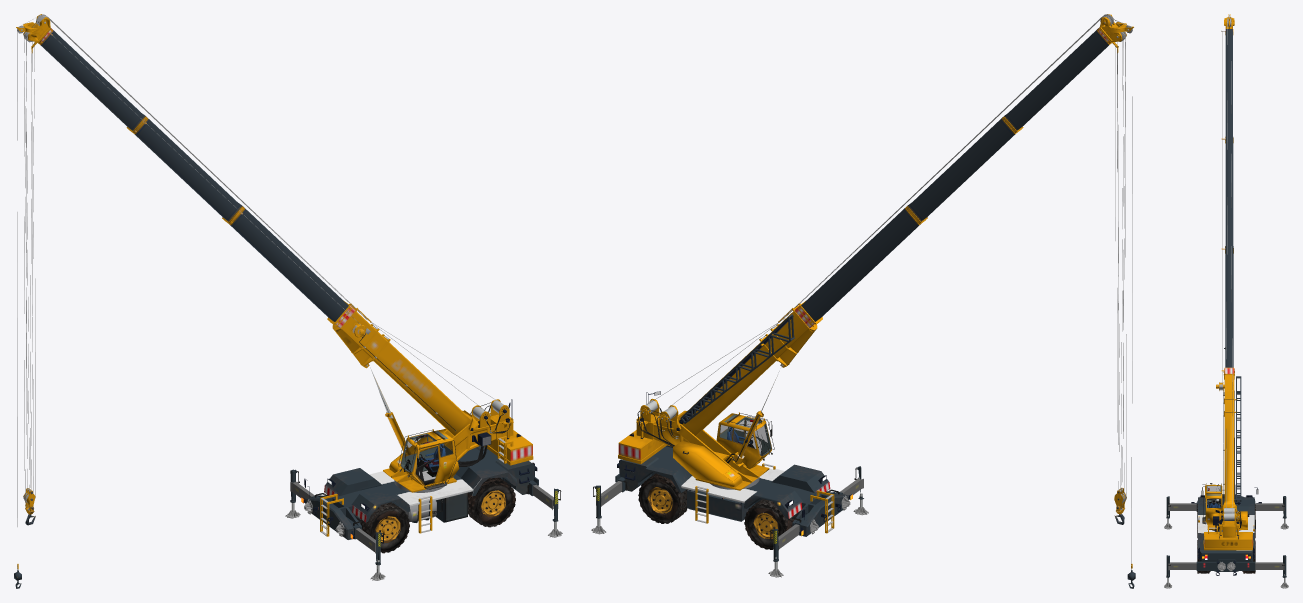
File: crane_machine_low.glb
The picture shows the model from 3 angles, left to right: view 1: azimuth 30°, elevation 25°; view 2: azimuth 150°, elevation 25°; view 3: azimuth 270°, elevation 25°; orthographic projection. The views are drawn at different scales.
Parts seen in each view (by area): view 1: polySurface51_hand__0, pCube59_base__0, pCube33_body__0, polySurface208_tyre__0, pCube15_cabin__0, polySurface110_hydrolic_lift__0, polySurface164_glass_1_0, pCube139_lader__0, polySurface220_rim_0, pCylinder370_other__0; view 2: polySurface51_hand__0, pCube59_base__0, pCube33_body__0, polySurface208_tyre__0, polySurface110_hydrolic_lift__0, pCube15_cabin__0, polySurface220_rim_0, pCylinder370_other__0, polySurface164_glass_1_0, pCube139_lader__0; view 3: polySurface51_hand__0, pCube59_base__0, polySurface110_hydrolic_lift__0, pCube33_body__0, pCylinder370_other__0, pCube15_cabin__0, pCylinder407_hydraulic__0, polySurface208_tyre__0, polySurface164_glass_1_0.
Boxes of the visible parts, bbox=[...] form: polySurface51_hand__0: bbox=[14, 14, 498, 588]; pCube59_base__0: bbox=[305, 445, 538, 539]; pCube33_body__0: bbox=[383, 399, 533, 492]; polySurface208_tyre__0: bbox=[326, 477, 515, 553]; pCube15_cabin__0: bbox=[398, 429, 459, 489]; polySurface110_hydrolic_lift__0: bbox=[285, 469, 562, 580]; polySurface164_glass_1_0: bbox=[401, 436, 452, 480]; pCube139_lader__0: bbox=[320, 436, 513, 536]; polySurface220_rim_0: bbox=[375, 490, 505, 542]; pCylinder370_other__0: bbox=[32, 47, 537, 539]; polySurface51_hand__0: bbox=[647, 14, 1135, 588]; pCube59_base__0: bbox=[615, 445, 848, 536]; pCube33_body__0: bbox=[618, 398, 769, 490]; polySurface208_tyre__0: bbox=[638, 473, 827, 549]; polySurface110_hydrolic_lift__0: bbox=[591, 466, 868, 577]; pCube15_cabin__0: bbox=[716, 412, 774, 468]; polySurface220_rim_0: bbox=[647, 487, 778, 538]; pCylinder370_other__0: bbox=[617, 46, 1118, 536]; polySurface164_glass_1_0: bbox=[720, 420, 771, 463]; pCube139_lader__0: bbox=[667, 445, 834, 533]; polySurface51_hand__0: bbox=[1216, 14, 1241, 513]; pCube59_base__0: bbox=[1197, 494, 1255, 571]; polySurface110_hydrolic_lift__0: bbox=[1164, 496, 1288, 588]; pCube33_body__0: bbox=[1203, 507, 1253, 550]; pCylinder370_other__0: bbox=[1191, 391, 1261, 575]; pCube15_cabin__0: bbox=[1201, 483, 1222, 524]; pCylinder407_hydraulic__0: bbox=[1168, 388, 1284, 565]; polySurface208_tyre__0: bbox=[1197, 504, 1255, 573]; polySurface164_glass_1_0: bbox=[1207, 486, 1220, 507].
Bounding box in the file's own units: 27.38 × 31.08 × 8.56.
14 materials, 13 textured.
